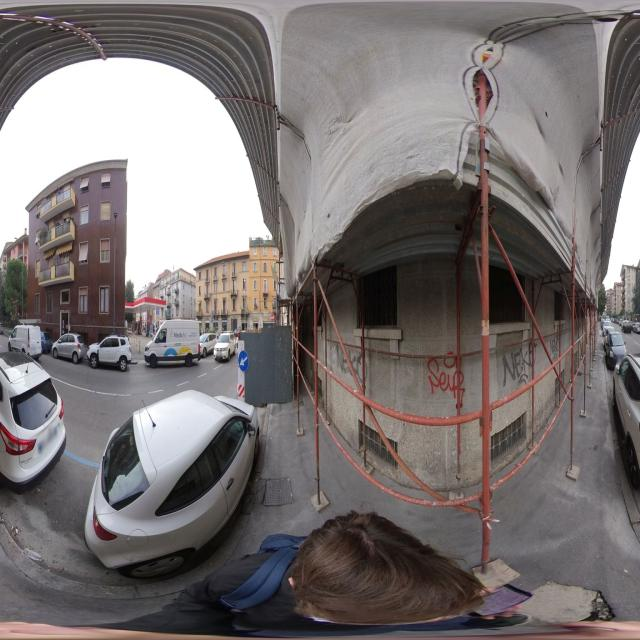bike: (0, 317, 67, 498)
car: (83, 387, 267, 582), (144, 318, 200, 368), (86, 334, 132, 370), (7, 324, 42, 362), (51, 332, 87, 363), (605, 333, 626, 372), (214, 332, 236, 363), (200, 334, 215, 358), (40, 332, 53, 354), (622, 318, 631, 334), (633, 318, 640, 334)
